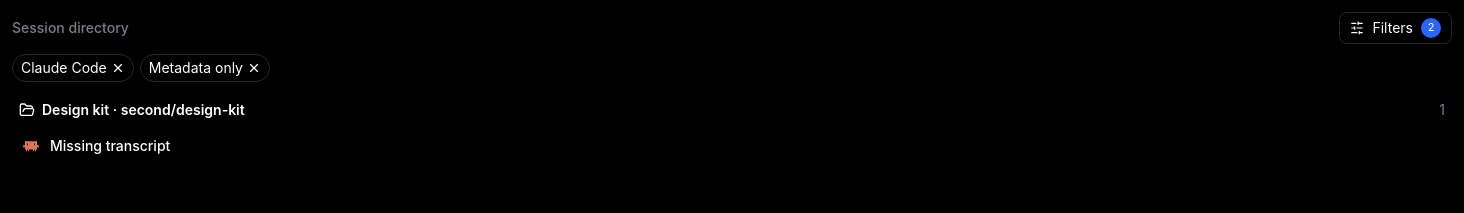
it: SessionDirectory › shows non-default filter chips and clears them independently
The width and height of the screenshot is (1464, 213).
What coordinates should you click on to do the following:
click the button "Claude Code"
I would click on:
 (73, 68)
Its box is left=12, top=54, right=134, bottom=82.
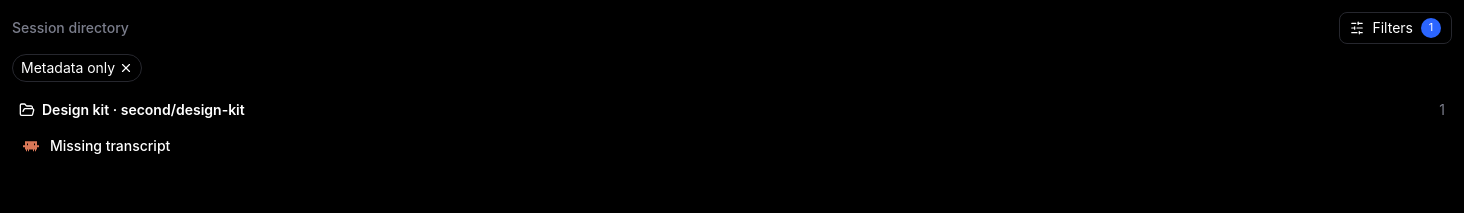
expect the button "Missing transcript" is shown: met, box left=12, top=128, right=1452, bottom=164
What coordinates should you click on to do the following:
click the button "Metadata only"
I would click on:
 (77, 68)
Its box is left=12, top=54, right=142, bottom=82.
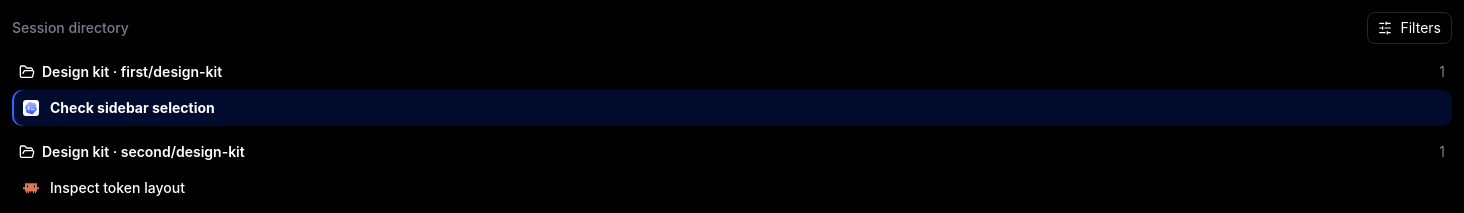
expect the button "Missing transcript" is gone: met
expect the button "Check sidebar selection" is shown: met, box left=12, top=90, right=1452, bottom=126
